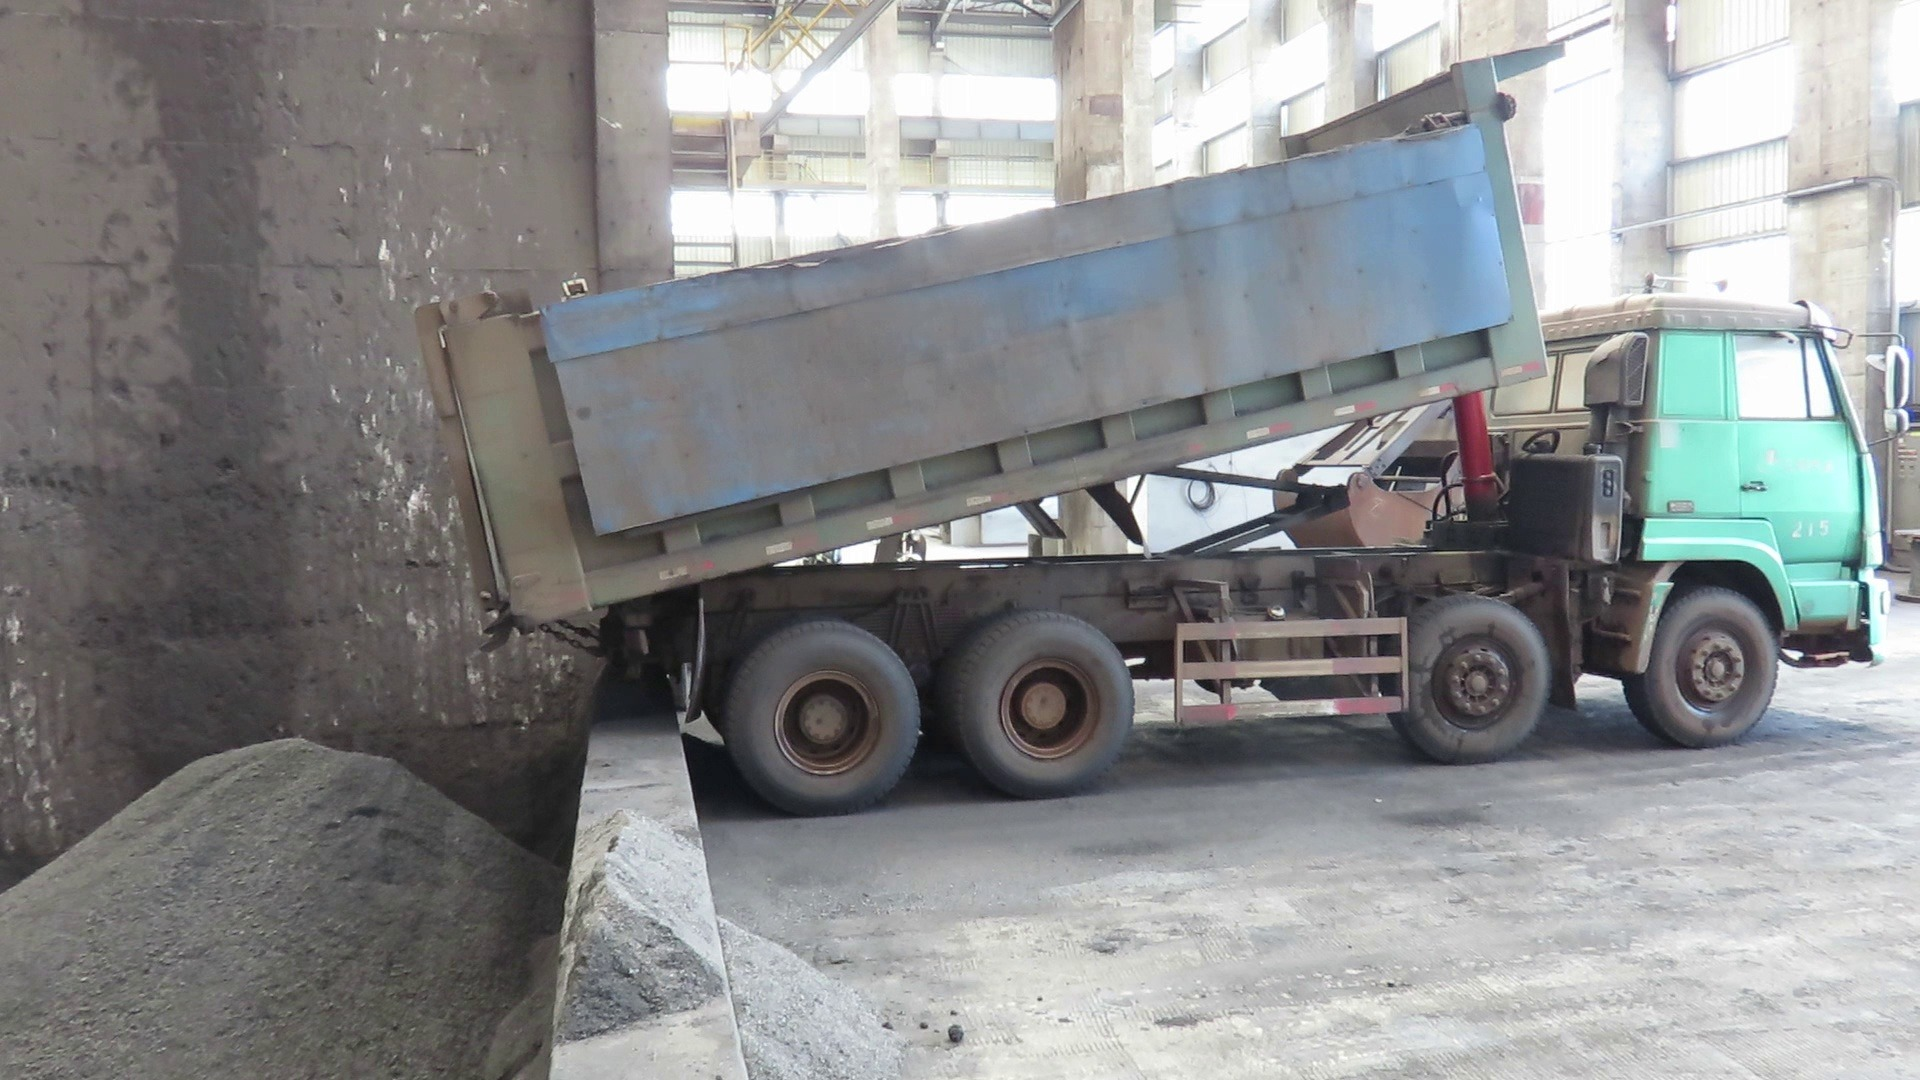truck: (406, 30, 1900, 812)
